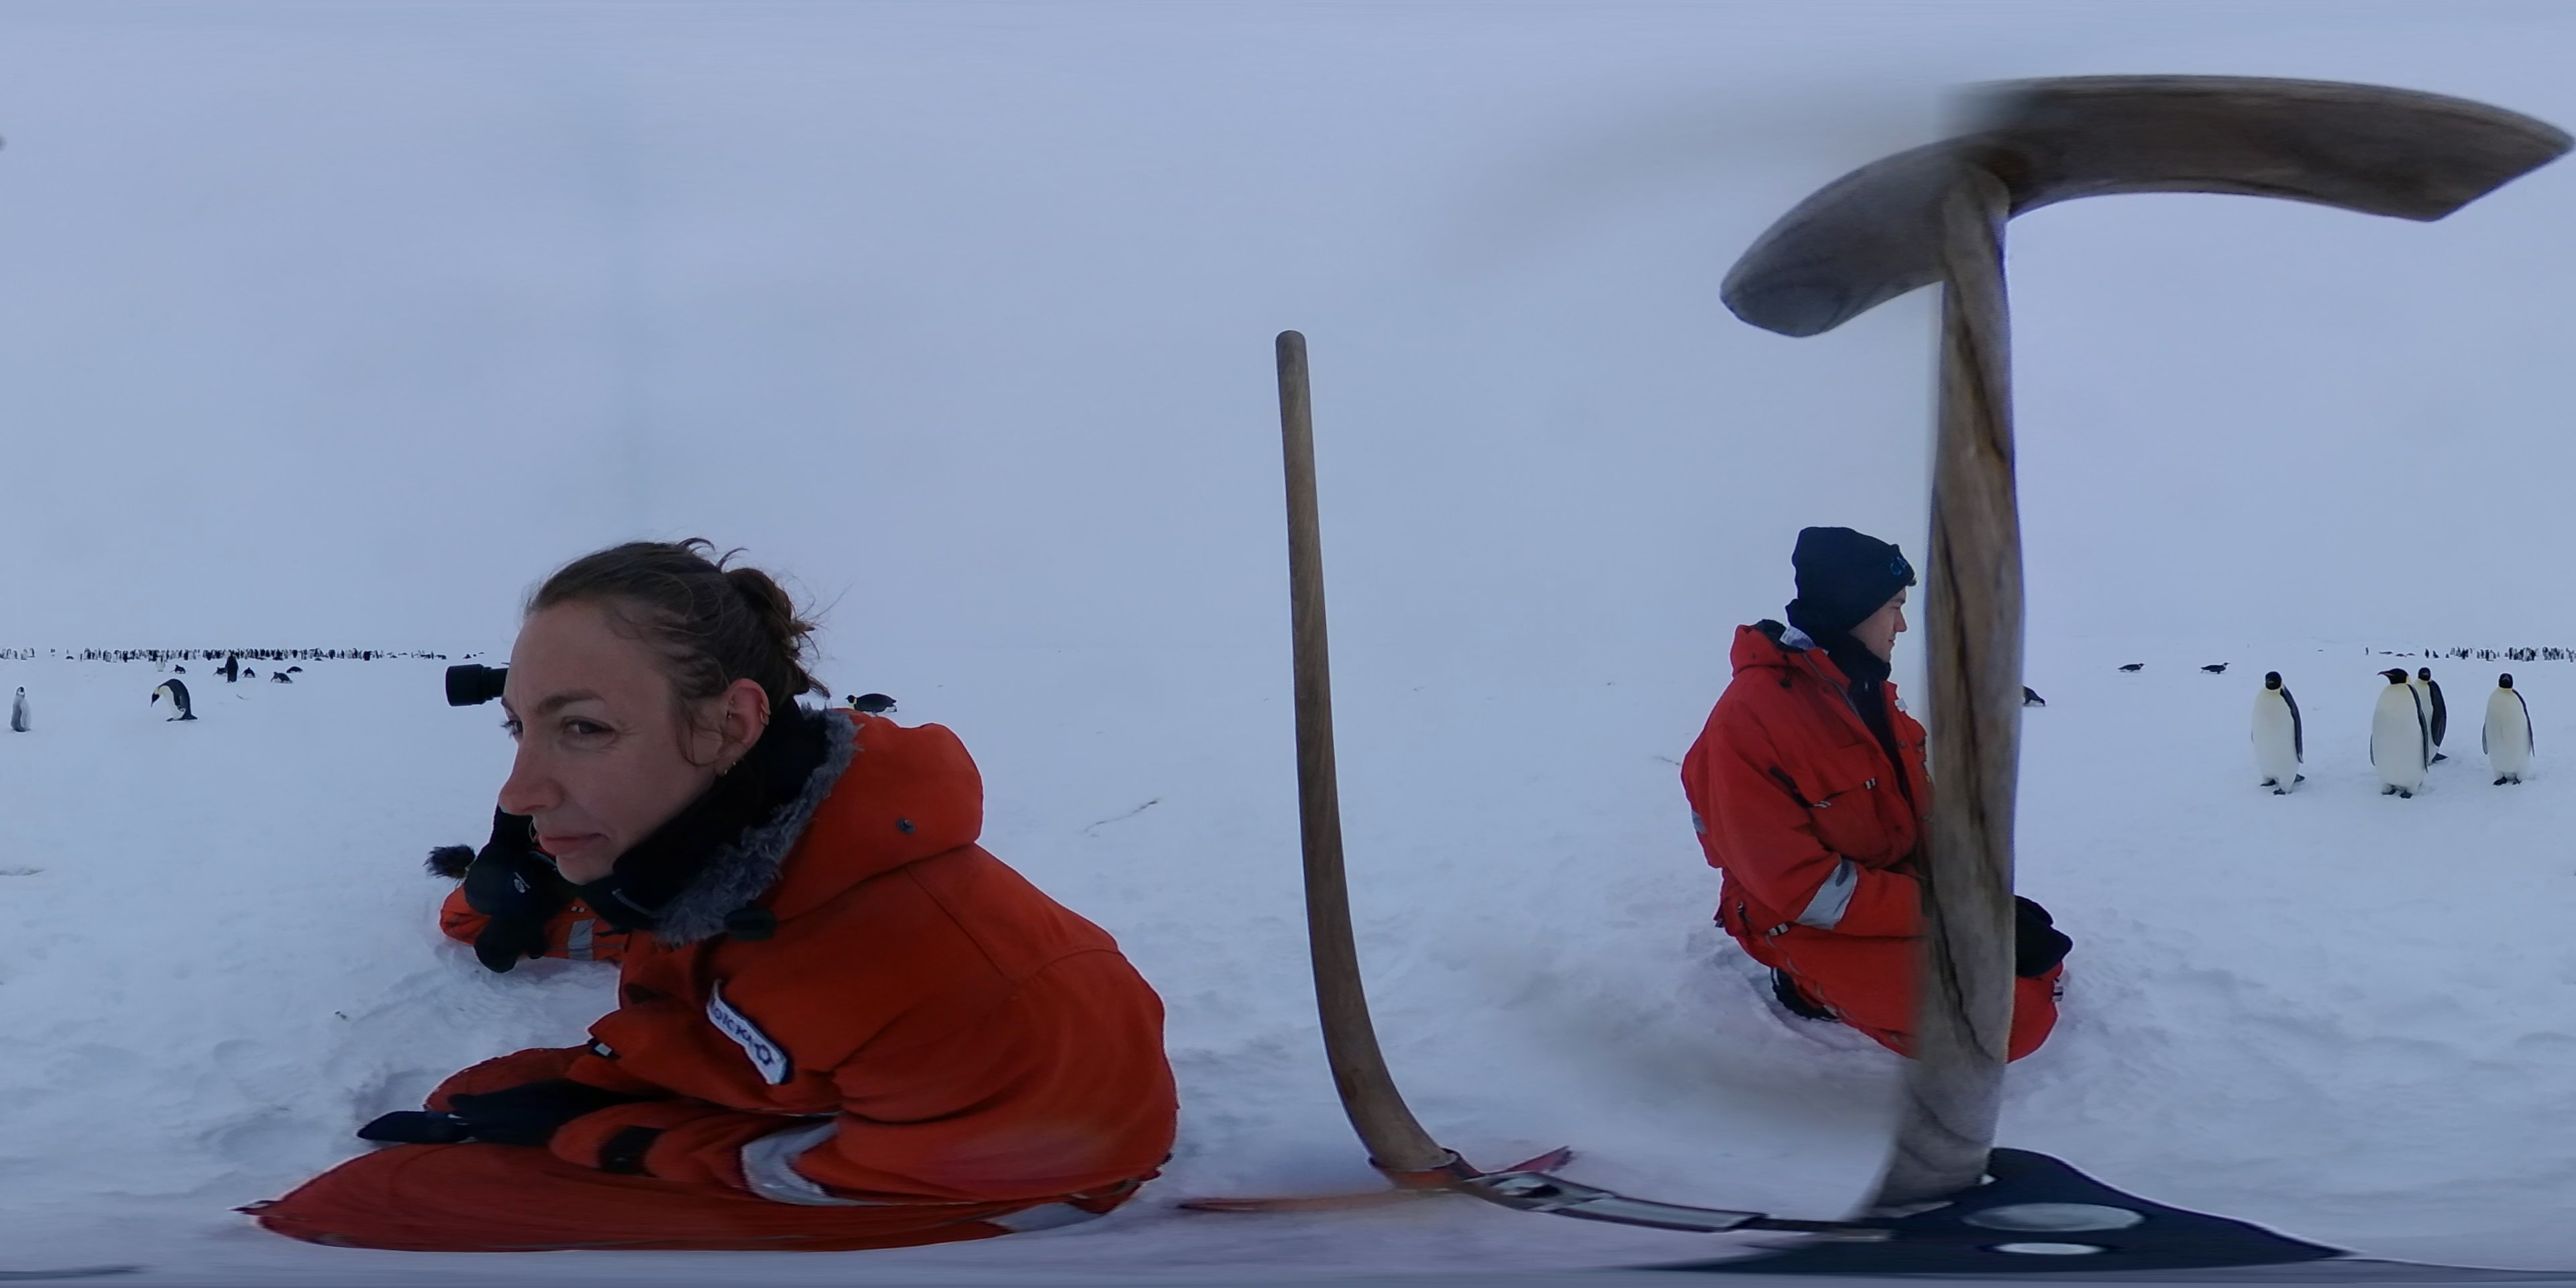adult_standing_penguin: (2364, 665, 2428, 803), (2249, 670, 2313, 798), (2477, 670, 2540, 793), (2412, 662, 2451, 769), (148, 675, 200, 723), (223, 651, 241, 687)
adult_toboggan_penguin: (843, 690, 904, 716), (2196, 659, 2234, 674), (268, 669, 292, 687), (2113, 662, 2147, 672)
juvenile_penguin: (8, 683, 34, 736)
researcher: (453, 539, 1186, 1196), (1669, 522, 2080, 1069)
